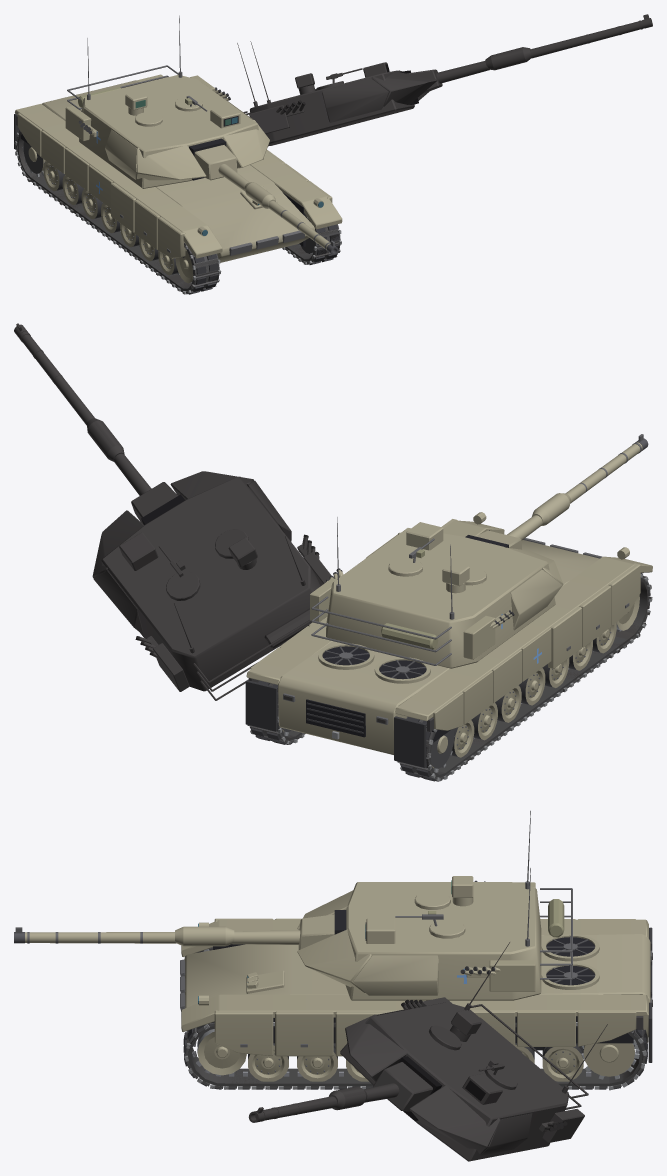
File: tank__leopard_2a6.glb
3 renders of one model, top to bottom at view 1: azimuth 30°, elevation 25°; view 2: azimuth 150°, elevation 25°; view 3: azimuth 270°, elevation 25°, orthographic. The views are drawn at different scales.
Parts seen in each view (by area): view 1: Hull_Mesh, Turret_Mesh, Wreck, Track_L_Mesh, Gun_Mesh, Track_R_Mesh, Gunner_Sight_Mesh, Sprocket_L_Mesh, Wheel_L2_Mesh, Wheel_L0_Mesh, CITV_Mesh, Wheel_L1_Mesh; view 2: Wreck, Hull_Mesh, Turret_Mesh, Track_L_Mesh, Gun_Mesh, Gunner_Sight_Mesh, Track_R_Mesh, Hatch_Loader_Mesh, Wheel_L3_Mesh, CITV_Mesh, Sprocket_L_Mesh, Wheel_L1_Mesh (+1 smaller); view 3: Hull_Mesh, Wreck, Turret_Mesh, Gun_Mesh, Track_R_Mesh, Sprocket_R_Mesh, Idler_R_Mesh, Wheel_R0_Mesh, Wheel_R6_Mesh, Wheel_R5_Mesh, Gunner_Sight_Mesh, Hatch_Loader_Mesh (+2 smaller).
Boxes of the visible parts, x1,y1,x2,y2 form: Hull_Mesh: (14, 74, 342, 262); Turret_Mesh: (65, 65, 269, 188); Wreck: (15, 14, 652, 291); Track_L_Mesh: (14, 130, 220, 294); Gun_Mesh: (194, 145, 338, 254); Track_R_Mesh: (282, 215, 341, 264); Gunner_Sight_Mesh: (210, 105, 240, 128); Sprocket_L_Mesh: (22, 141, 45, 177); Wheel_L2_Mesh: (81, 189, 102, 219); Wheel_L0_Mesh: (43, 161, 64, 191); CITV_Mesh: (125, 91, 147, 115); Wheel_L1_Mesh: (62, 175, 83, 205); Wreck: (14, 323, 652, 779); Hull_Mesh: (245, 512, 652, 767); Turret_Mesh: (310, 528, 563, 668); Track_L_Mesh: (397, 573, 652, 781); Gun_Mesh: (475, 434, 648, 549); Gunner_Sight_Mesh: (406, 522, 443, 550); Track_R_Mesh: (247, 680, 305, 744); Hatch_Loader_Mesh: (388, 538, 434, 576); Wheel_L3_Mesh: (519, 668, 545, 705); CITV_Mesh: (442, 562, 469, 593); Sprocket_L_Mesh: (431, 729, 454, 772); Wheel_L1_Mesh: (471, 702, 497, 740); Hull_Mesh: (180, 918, 652, 1062); Wreck: (185, 942, 647, 1161); Turret_Mesh: (297, 882, 572, 1000); Gun_Mesh: (14, 914, 334, 949); Track_R_Mesh: (183, 1021, 647, 1090); Sprocket_R_Mesh: (581, 1039, 639, 1079); Idler_R_Mesh: (197, 1029, 246, 1075); Wheel_R0_Mesh: (542, 1043, 583, 1081); Wheel_R6_Mesh: (248, 1043, 288, 1081); Wheel_R5_Mesh: (297, 1043, 337, 1081); Gunner_Sight_Mesh: (365, 918, 395, 943); Hatch_Loader_Mesh: (395, 911, 465, 938).
Size of what is drawn, in the model's own units: 11.98 by 3.76 by 10.56.
